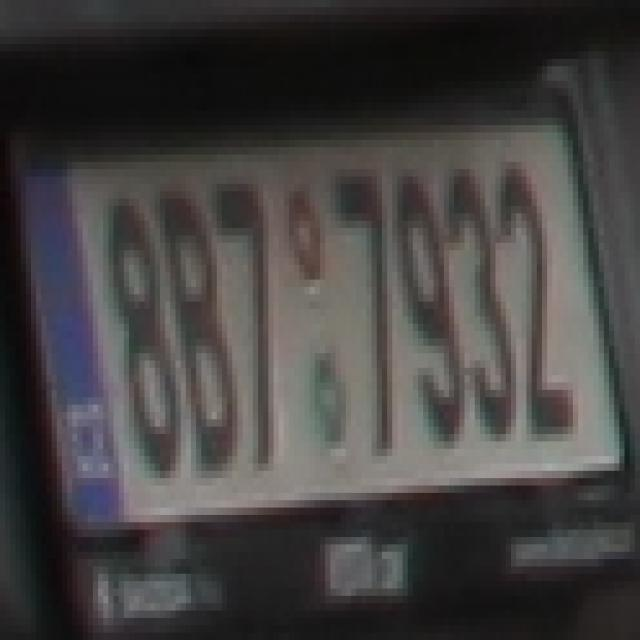2: (496, 162, 578, 434)
3: (438, 154, 516, 434)
7: (216, 169, 278, 471), (336, 169, 398, 449)
8: (98, 198, 181, 478)
9: (392, 169, 465, 449)
B: (160, 184, 232, 464)
